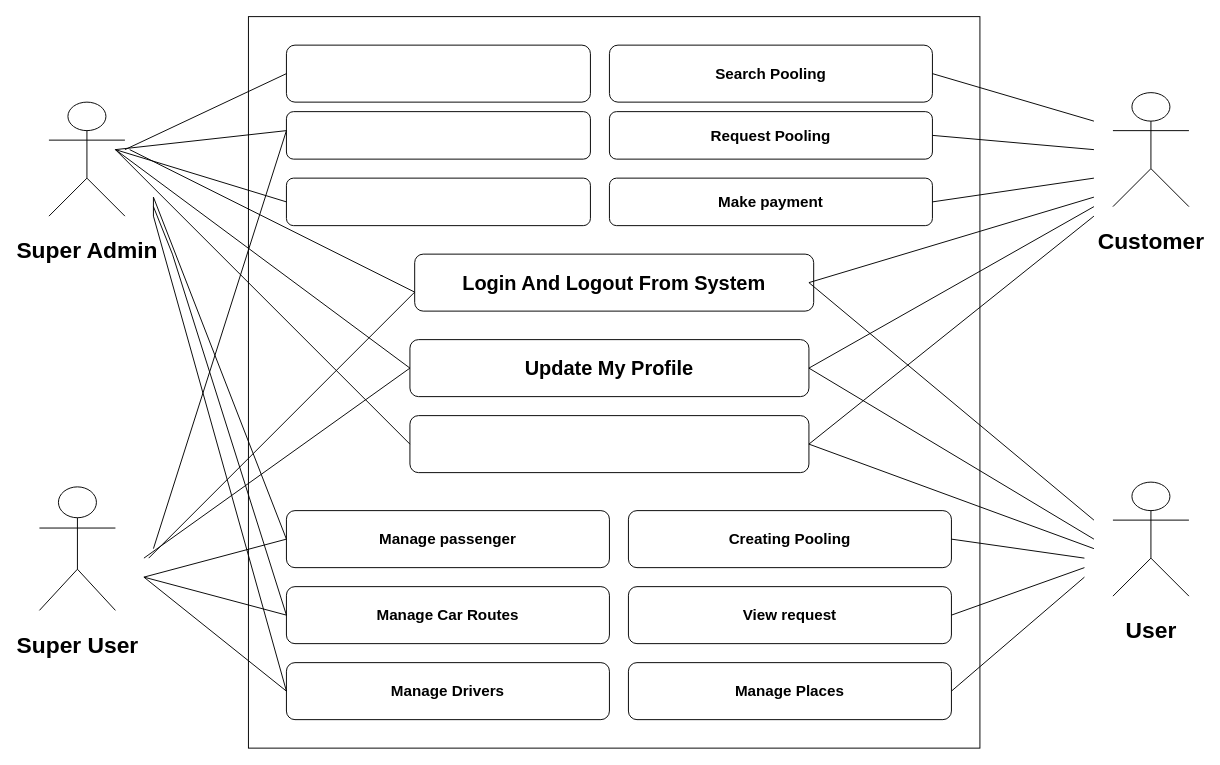
The diagram is 1220 pixels wide and 765 high, and some of its shapes have lost their labels. Each missing label, with the centre of its shape:
Change Account Password: the point at 609,444
Manage Cars: the point at 437,135
Manage Pooling: the point at 437,201
Manage Users And Full Application: the point at 437,73
